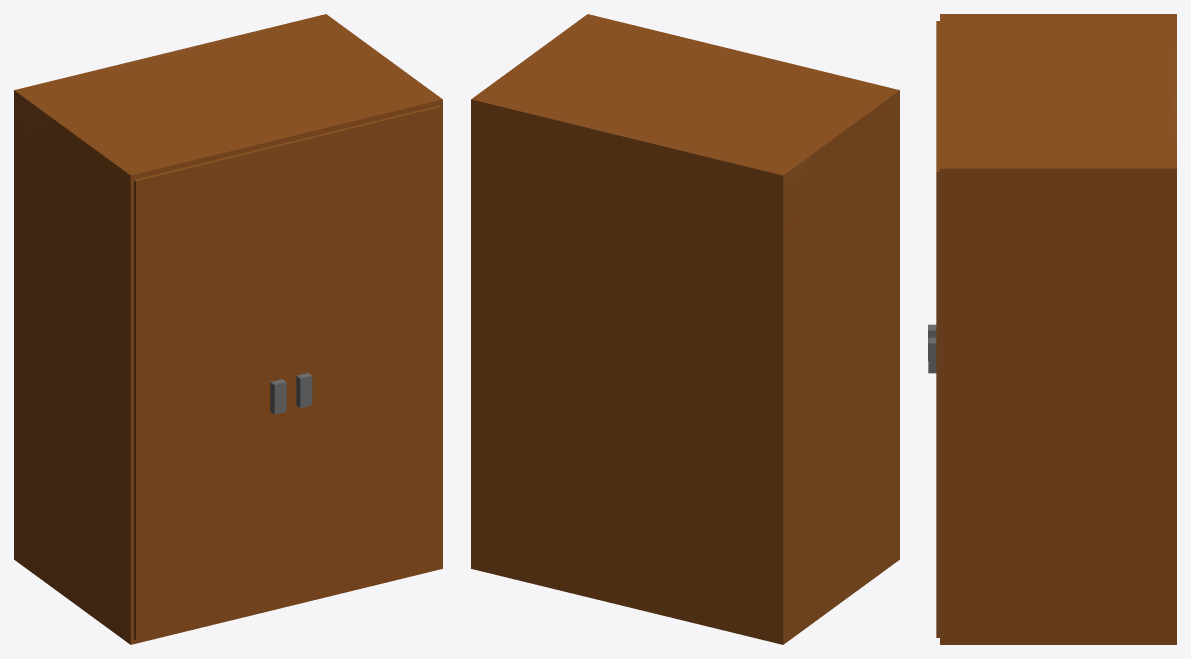
File: mueble1.fbx
3 renders of one model, left to right at view 1: azimuth 30°, elevation 25°; view 2: azimuth 150°, elevation 25°; view 3: azimuth 270°, elevation 25°, orthographic.
Visible parts, largest first — view 1: Mueble; view 2: Mueble; view 3: Mueble.
Boxes of the visible parts, left/top/right/bottom form: Mueble: left=14, top=14, right=442, bottom=644; Mueble: left=471, top=14, right=899, bottom=644; Mueble: left=928, top=14, right=1176, bottom=644.
Size of the model in its own units: 309 by 444 by 210.
1 material, 1 textured.
